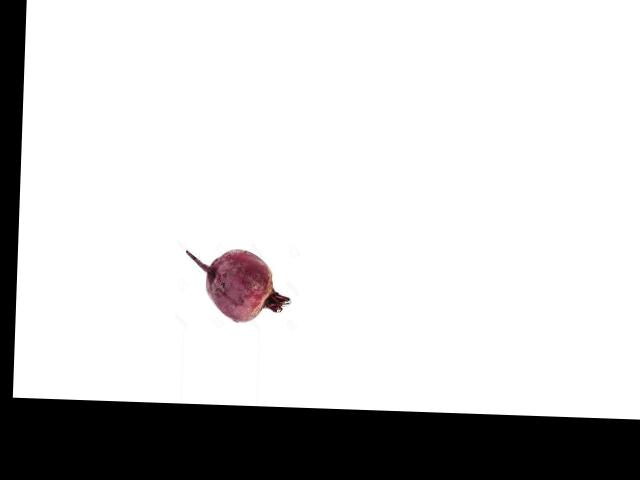beet: (185, 247, 292, 322)
